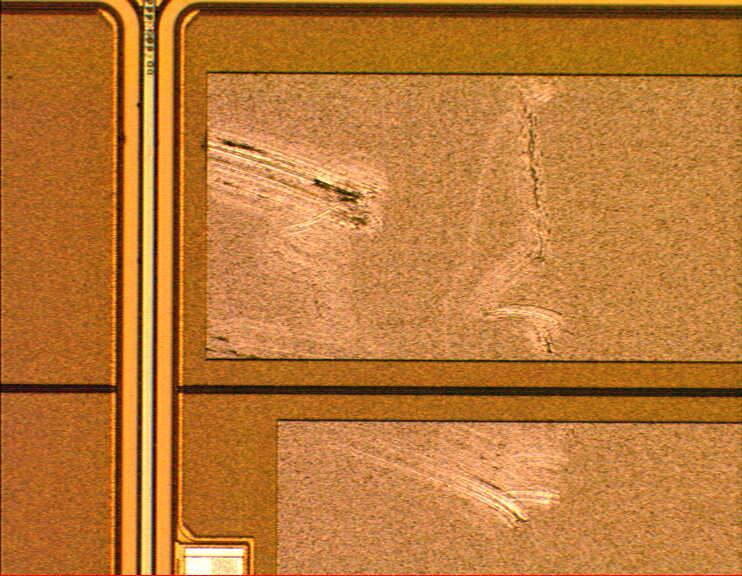SCRATCH: (203, 71, 575, 538)
